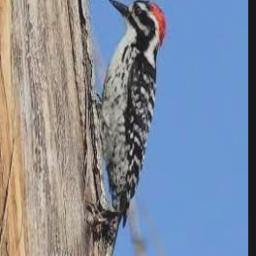Woodpecker: (96, 0, 167, 241)
